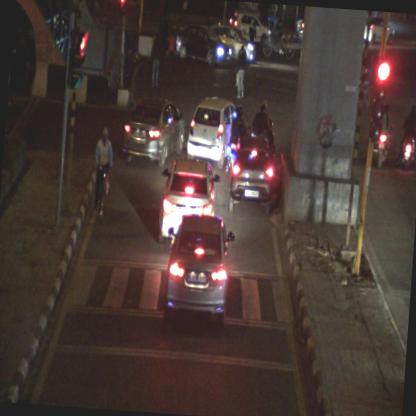car: (160, 212, 238, 328), (156, 158, 220, 246), (119, 96, 184, 168), (186, 94, 237, 171), (226, 136, 275, 212), (175, 22, 230, 68), (210, 23, 258, 68), (229, 11, 272, 47)
motorcycle: (374, 104, 392, 170), (400, 104, 415, 171)
